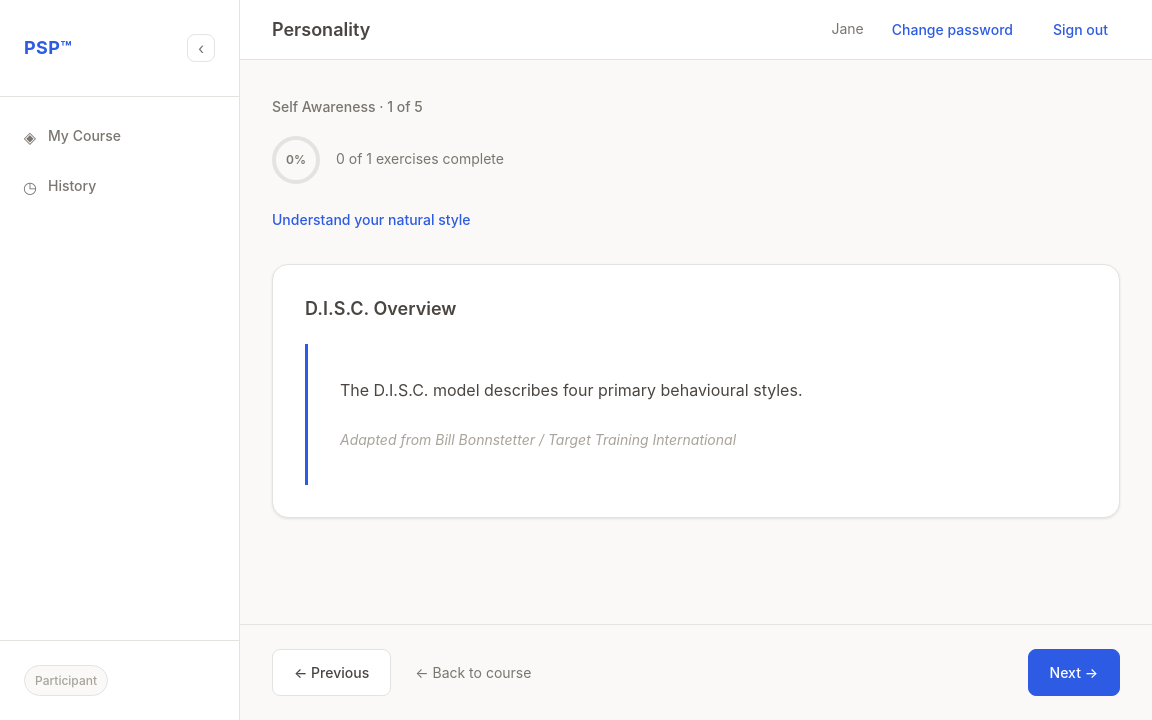
Test: SectionPage (slide-based) › shows the next button which advances slides
Expected: the heading "D.I.S.C. Overview" is shown, [305,298,456,319]
Click the button with aria-label "next slide": (1074, 672) [1028,649,1120,696]
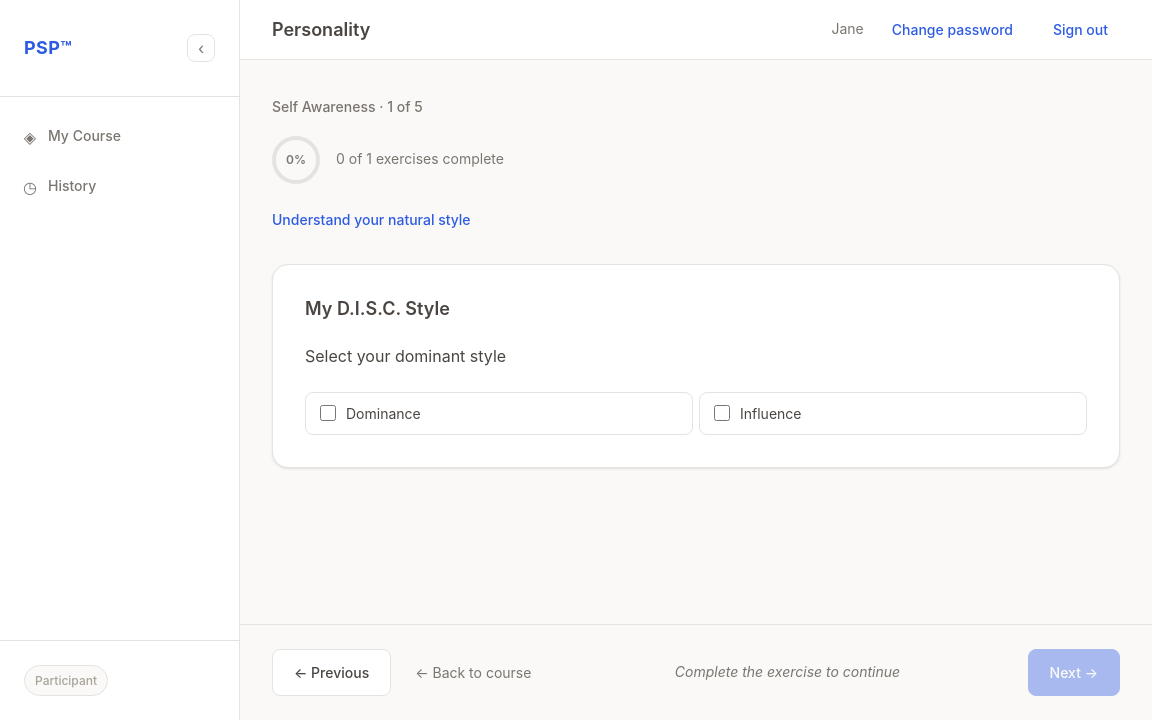
Now the element that starts with "My D.I.S.C. Style" is shown, box [305,298,450,319]
